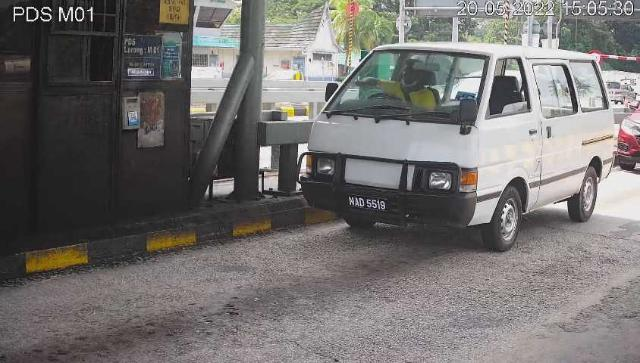License_Plate: (347, 194, 390, 216)
van: (303, 44, 615, 252)
